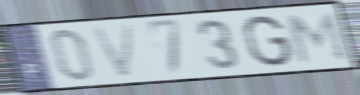0: (48, 27, 96, 83)
3: (196, 16, 242, 73)
7: (144, 16, 183, 79)
G: (241, 13, 294, 69)
M: (284, 10, 349, 65)
V: (88, 22, 138, 81)
